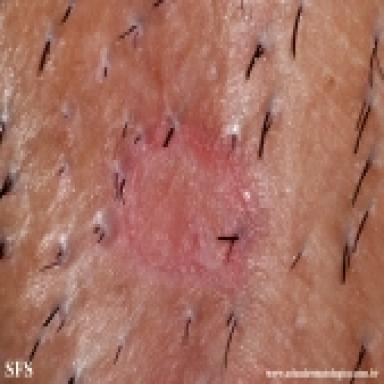Porokeratosis: (123, 113, 263, 285)
